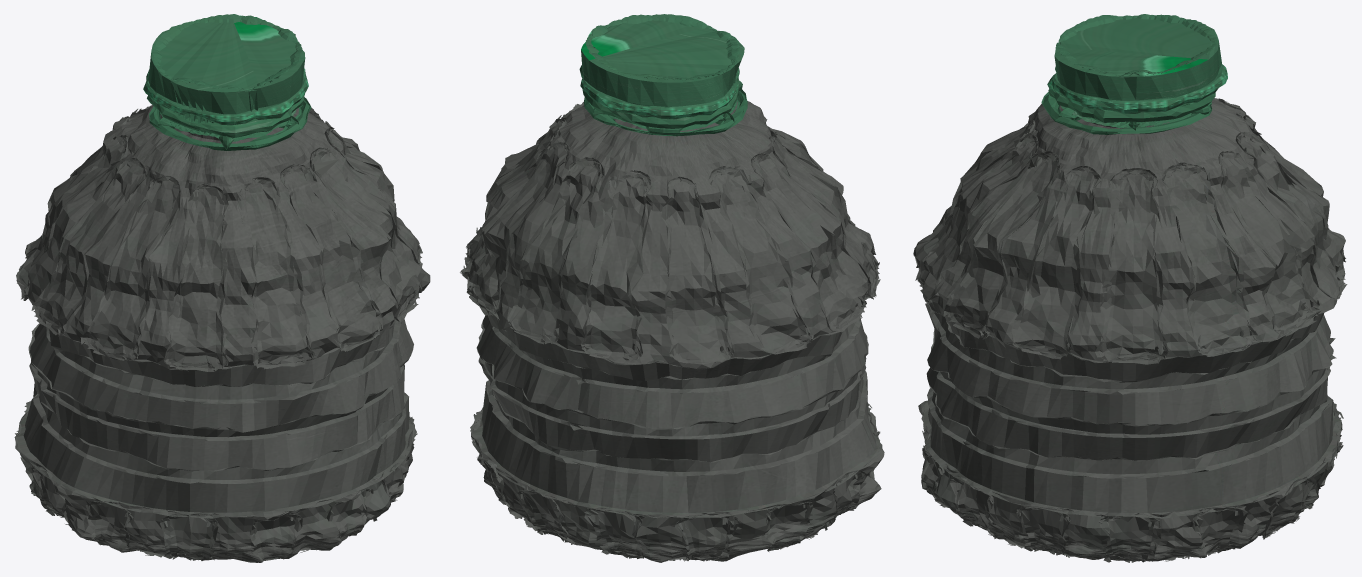
File: crush_medium_1.obj
3 renders of one model, left to right at view 1: azimuth 30°, elevation 25°; view 2: azimuth 150°, elevation 25°; view 3: azimuth 270°, elevation 25°, orthographic. The views are drawn at different scales.
Parts seen in each view (by area): view 1: model; view 2: model; view 3: model.
Part boxes in pixels (x1,y1,x2,y2): model: (14, 14, 430, 562); model: (460, 14, 884, 562); model: (913, 14, 1347, 562).
Bounding box in the file's own units: 0.1216 × 0.1423 × 0.1211.
Materials: 1 (1 with a texture image).
